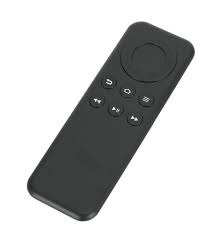remote control: (41, 16, 196, 224)
